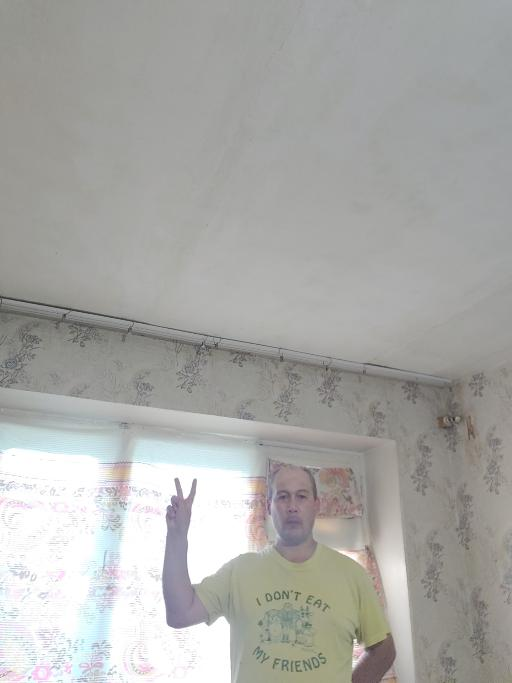peace: (164, 475, 197, 533)
